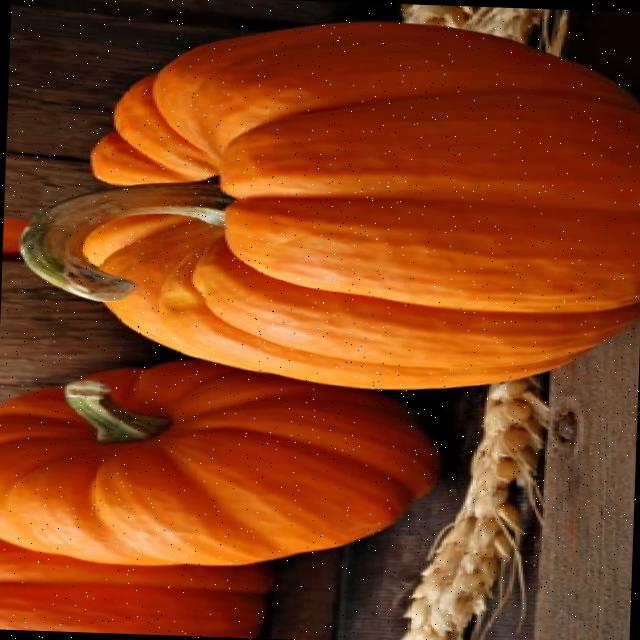pumpkin: (22, 23, 640, 388), (0, 360, 437, 564), (0, 539, 271, 638)
